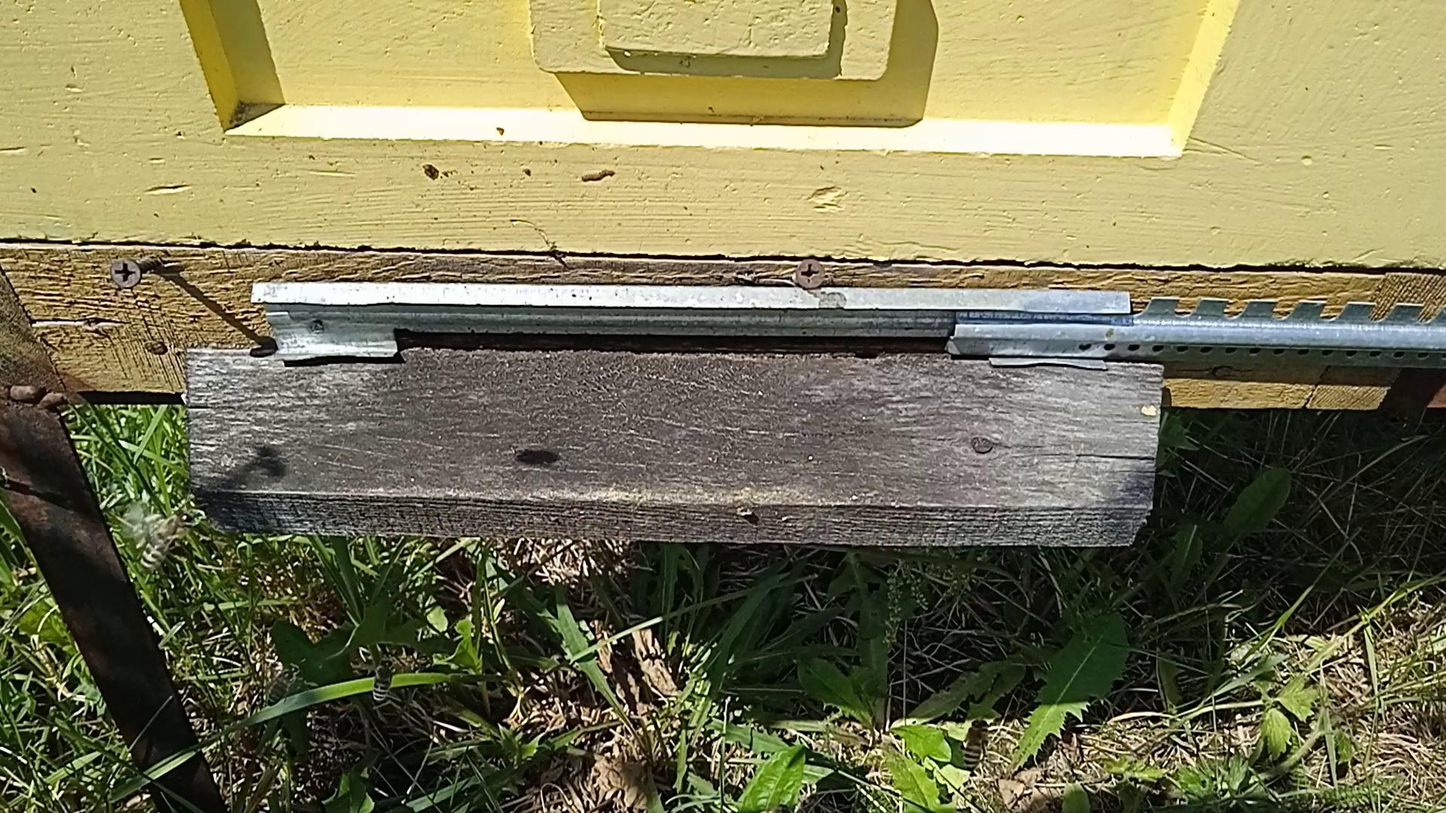worker-bee: (139, 510, 201, 570), (962, 717, 992, 769), (267, 662, 299, 707), (371, 659, 395, 705), (1056, 762, 1076, 784)
